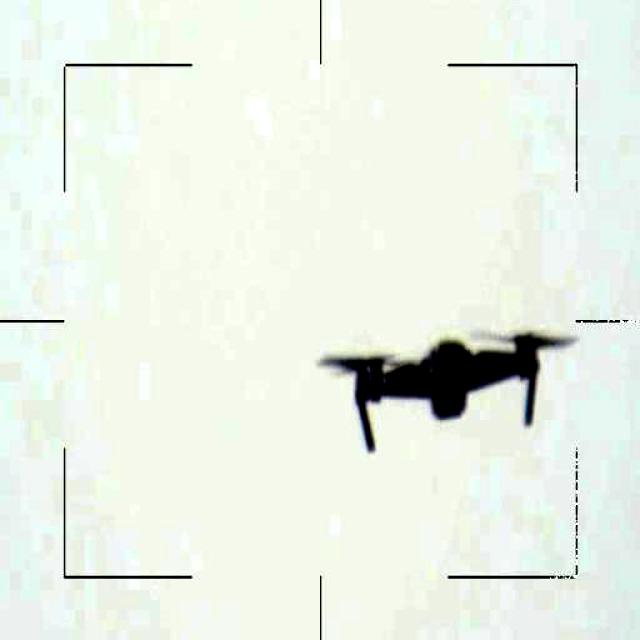bird: (310, 308, 581, 462)
